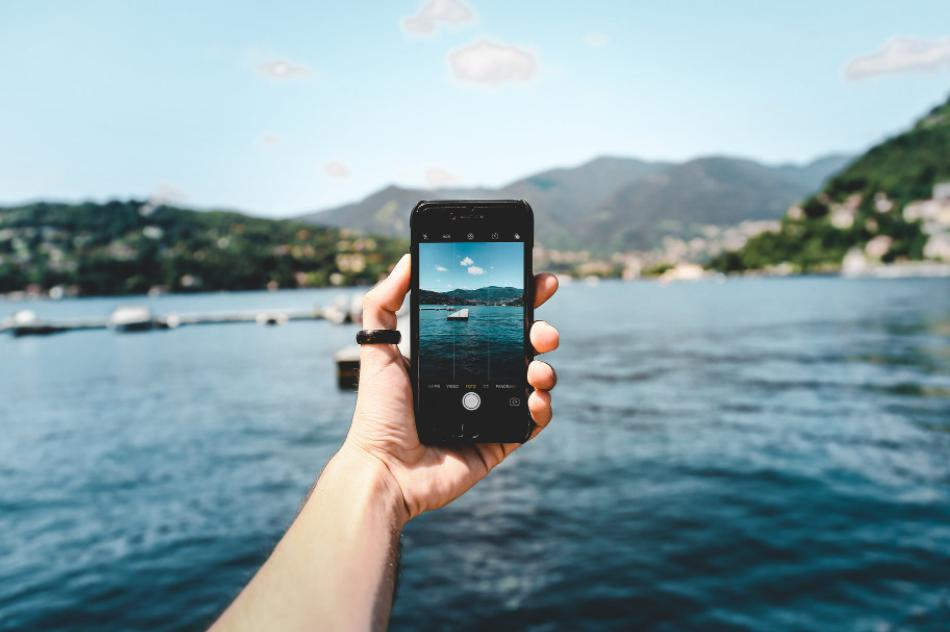mobile: (411, 201, 532, 445)
